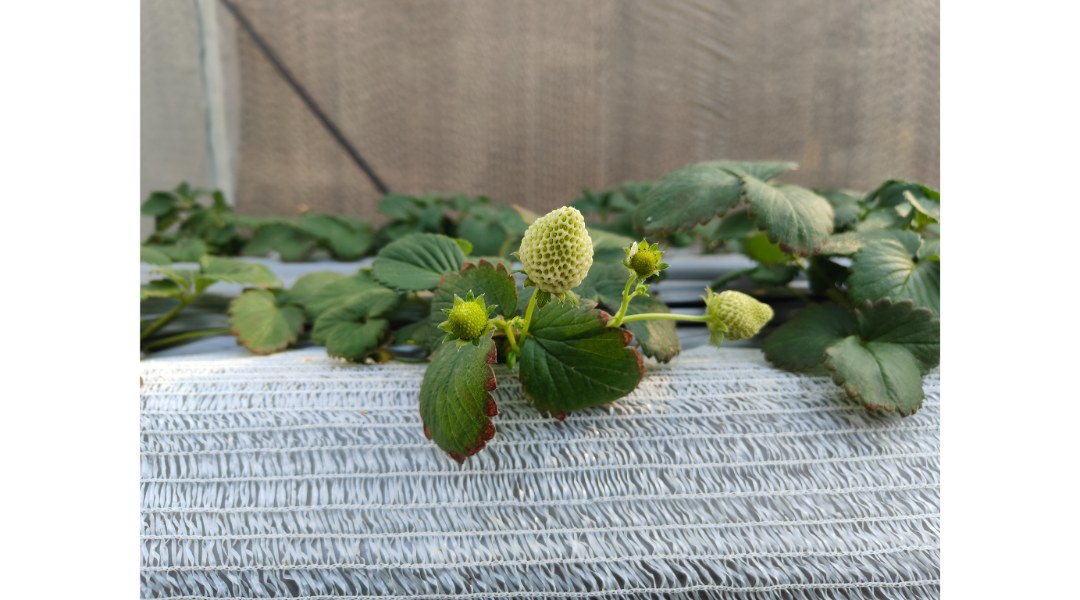berry: (506, 190, 604, 305), (698, 281, 781, 348), (615, 224, 675, 281), (435, 294, 500, 345)
strain: (617, 309, 711, 333), (519, 277, 538, 363)
